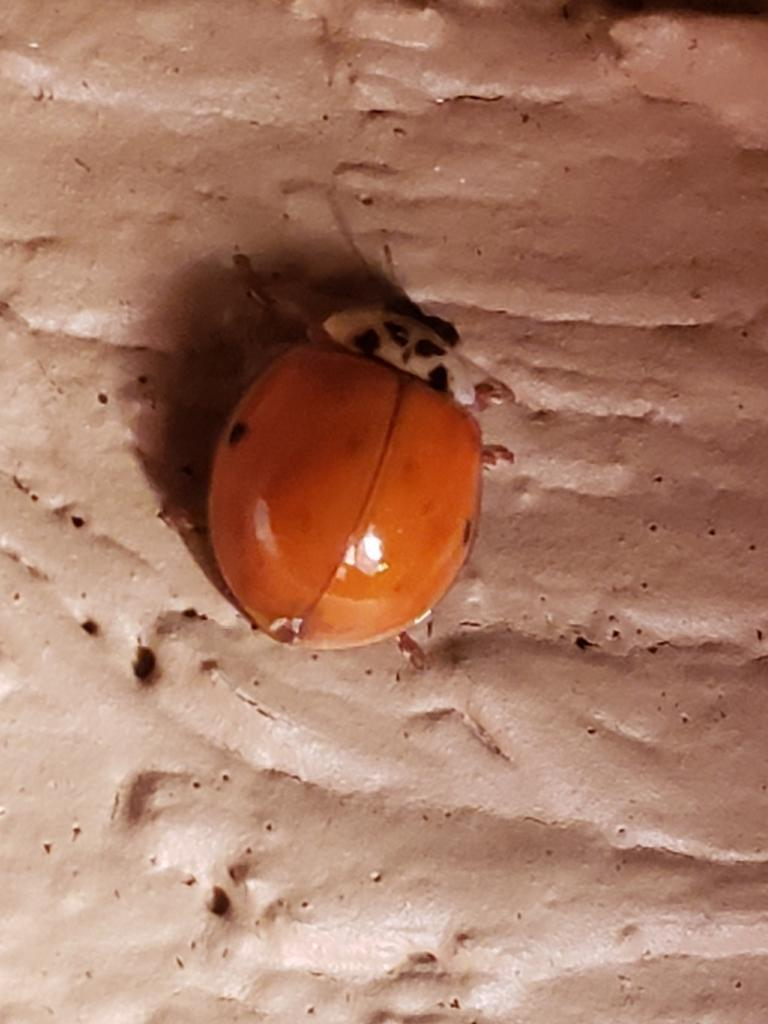ladybug: (159, 244, 524, 671)
